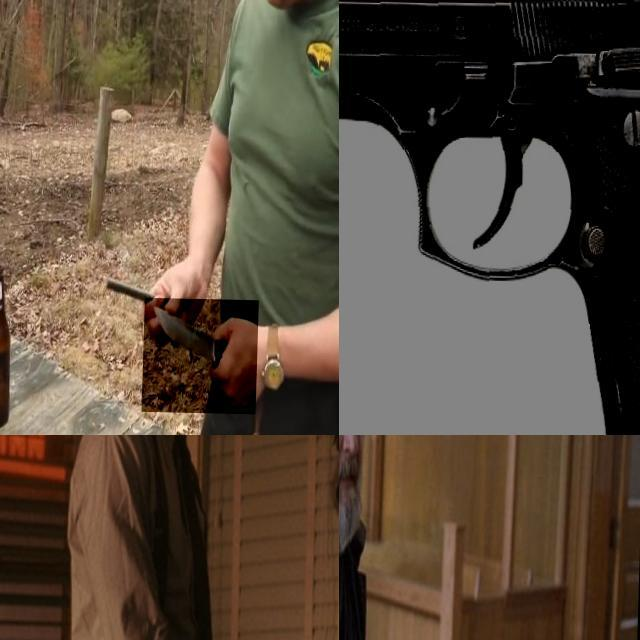-: (145, 296, 262, 412)
gun-knife-thesis - v11 Yolov5 augmented: (339, 0, 640, 435)
